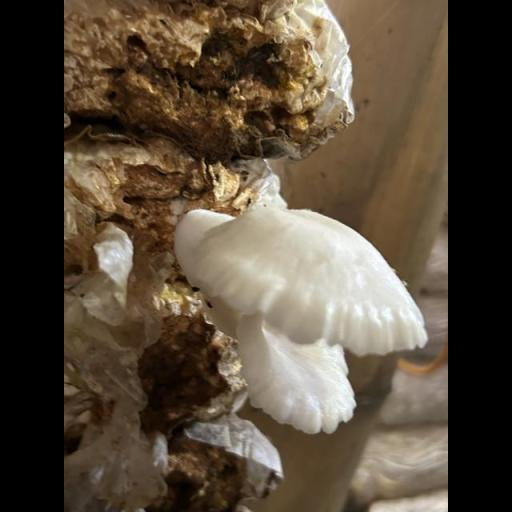White Oyster Mushroom: (174, 198, 425, 433)
